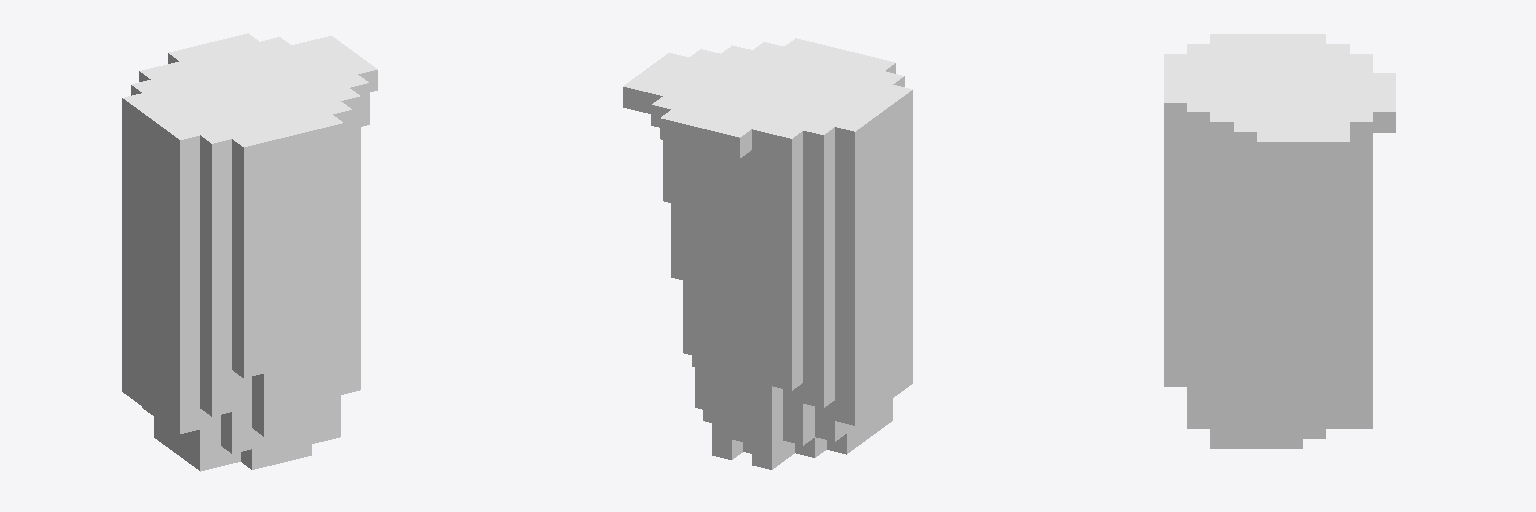
The model's file is Hero-3.obj.
The picture shows the model from 3 angles: view 1: azimuth 30°, elevation 25°; view 2: azimuth 150°, elevation 25°; view 3: azimuth 270°, elevation 25°; orthographic projection.
Parts seen in each view (by area): view 1: object 1; view 2: object 1; view 3: object 1.
Part boxes in pixels (x1,y1,x2,y2): object 1: (122, 33, 377, 471); object 1: (623, 38, 912, 469); object 1: (1164, 34, 1395, 448).
Bounding box in the file's own units: 1.1 × 1.6 × 1.